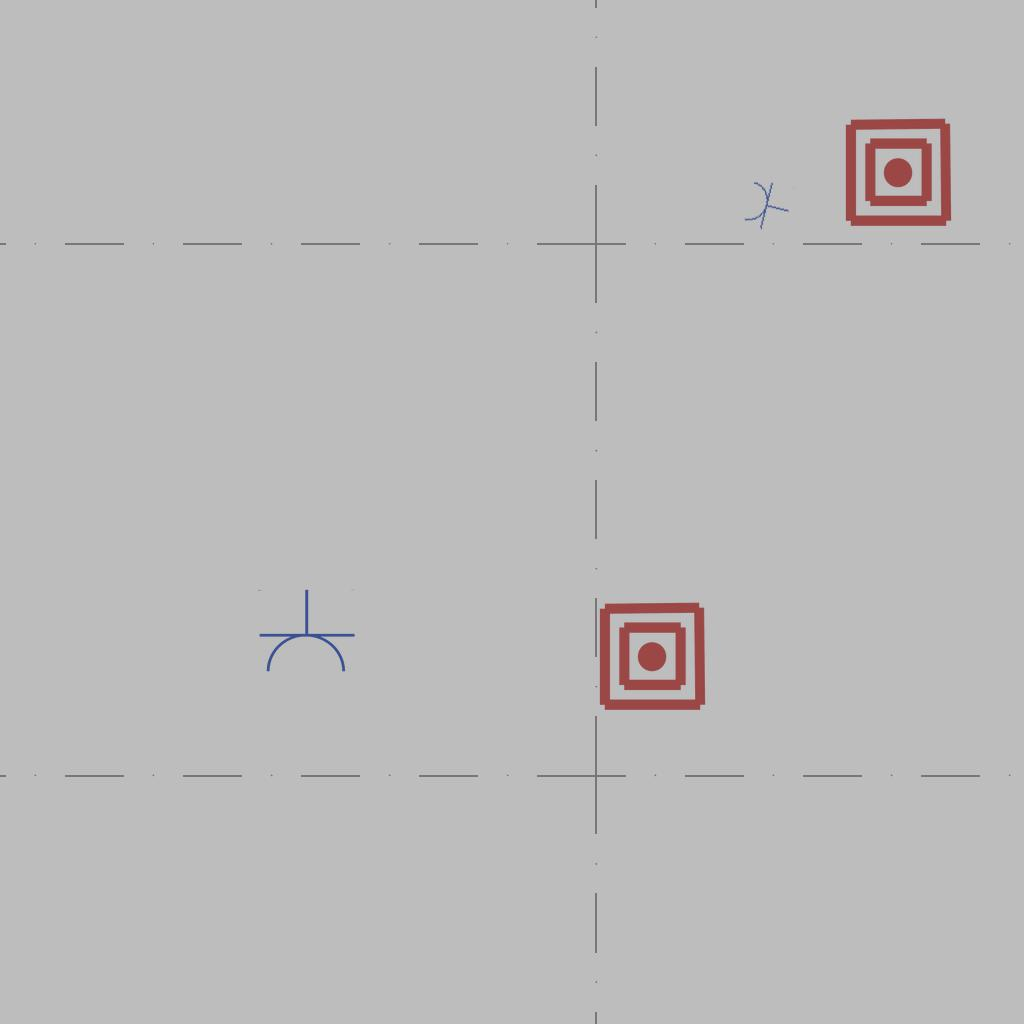NAM-Nichtautomatischer_Melder: (842, 116, 955, 229), (596, 600, 709, 713)
Schukosteckdose_einfach: (256, 589, 356, 676), (741, 176, 795, 235)
